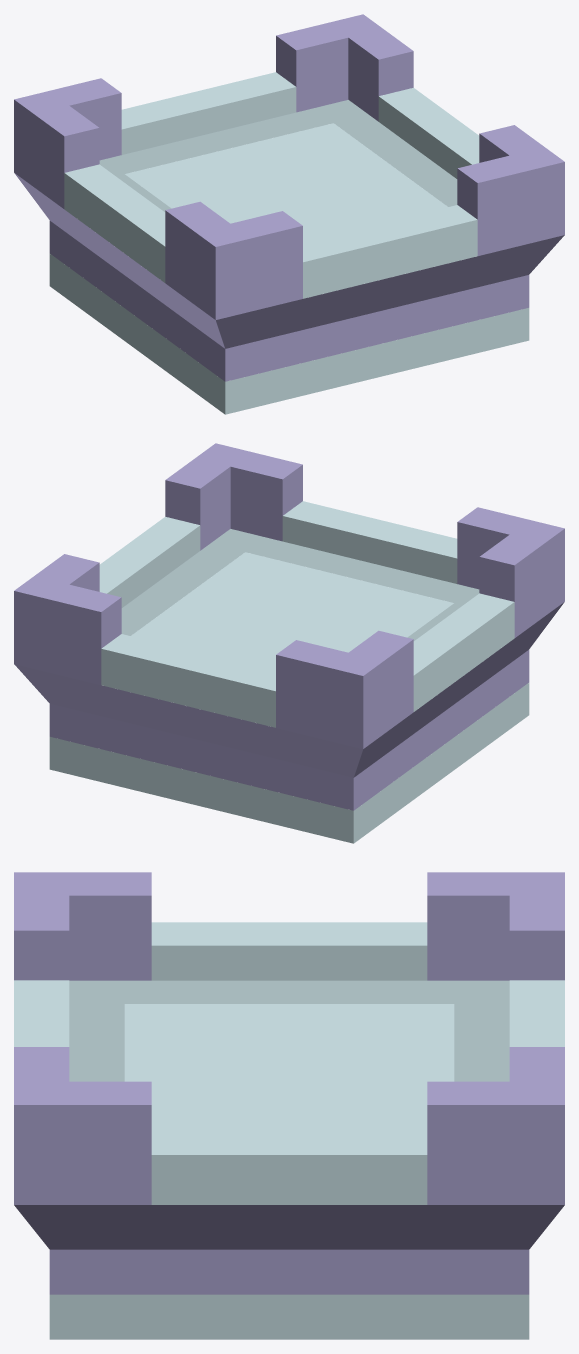
Rendered from towerSquare_topB.glb.
3 renders of one model, top to bottom at view 1: azimuth 30°, elevation 25°; view 2: azimuth 150°, elevation 25°; view 3: azimuth 270°, elevation 25°, orthographic. The views are drawn at different scales.
Visible parts, largest first — view 1: towerSquare_topB; view 2: towerSquare_topB; view 3: towerSquare_topB.
Boxes of the visible parts, bbox=[...] form: towerSquare_topB: bbox=[14, 14, 564, 414]; towerSquare_topB: bbox=[14, 443, 564, 843]; towerSquare_topB: bbox=[14, 872, 564, 1339].
Size of the model in its own units: 1 by 0.5 by 1.
